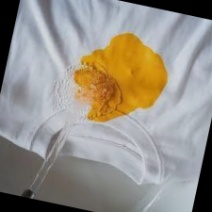mustard: (72, 26, 175, 132), (85, 64, 127, 112), (69, 63, 93, 89)
